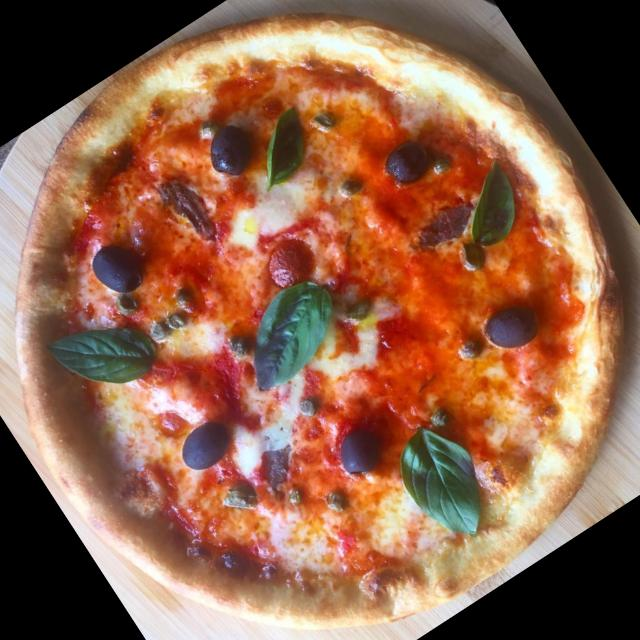black_olives: (170, 402, 255, 486), (194, 109, 271, 190), (475, 288, 554, 366), (82, 231, 153, 306), (373, 127, 438, 189), (328, 421, 388, 482)
pizza: (16, 14, 625, 629)
